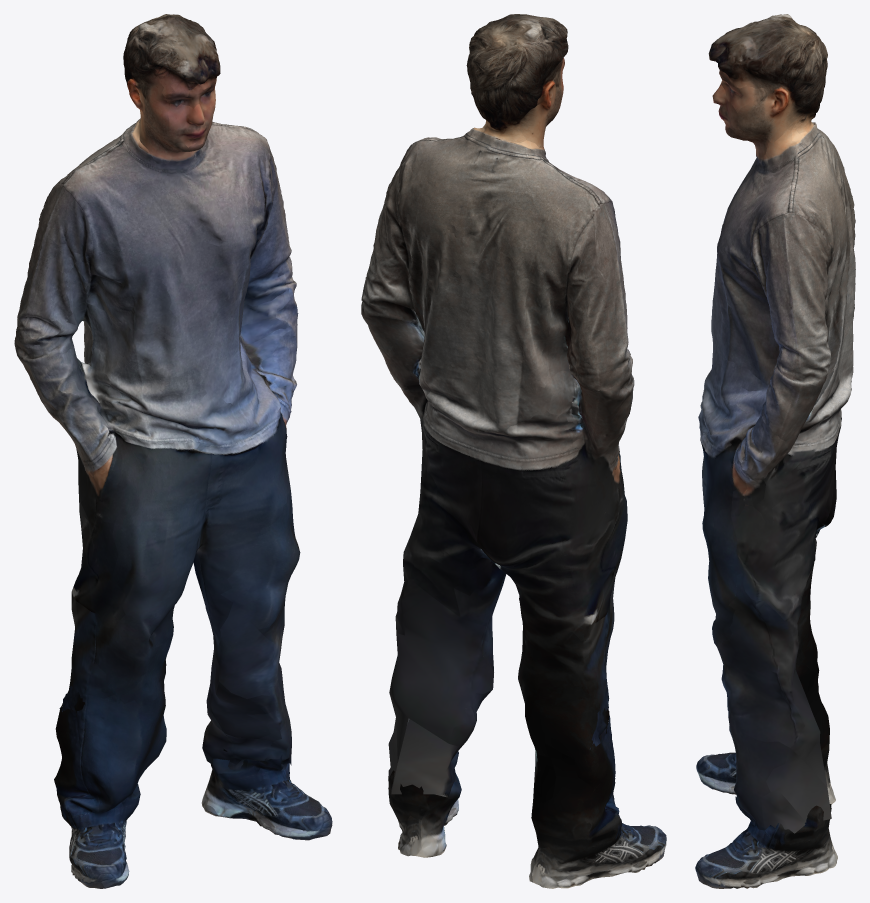
Rendered from Vittorio.glb.
3 renders of one model, left to right at view 1: azimuth 30°, elevation 25°; view 2: azimuth 150°, elevation 25°; view 3: azimuth 270°, elevation 25°, orthographic. The views are drawn at different scales.
Parts seen in each view (by area): view 1: Vittorio; view 2: Vittorio; view 3: Vittorio.
Boxes of the visible parts, x1,y1,x2,y2 form: Vittorio: [14, 14, 332, 888]; Vittorio: [361, 14, 666, 888]; Vittorio: [695, 14, 855, 888].
Size of the model in its own units: 0.8035 by 2.37 by 0.4286.
1 material, 1 textured.
